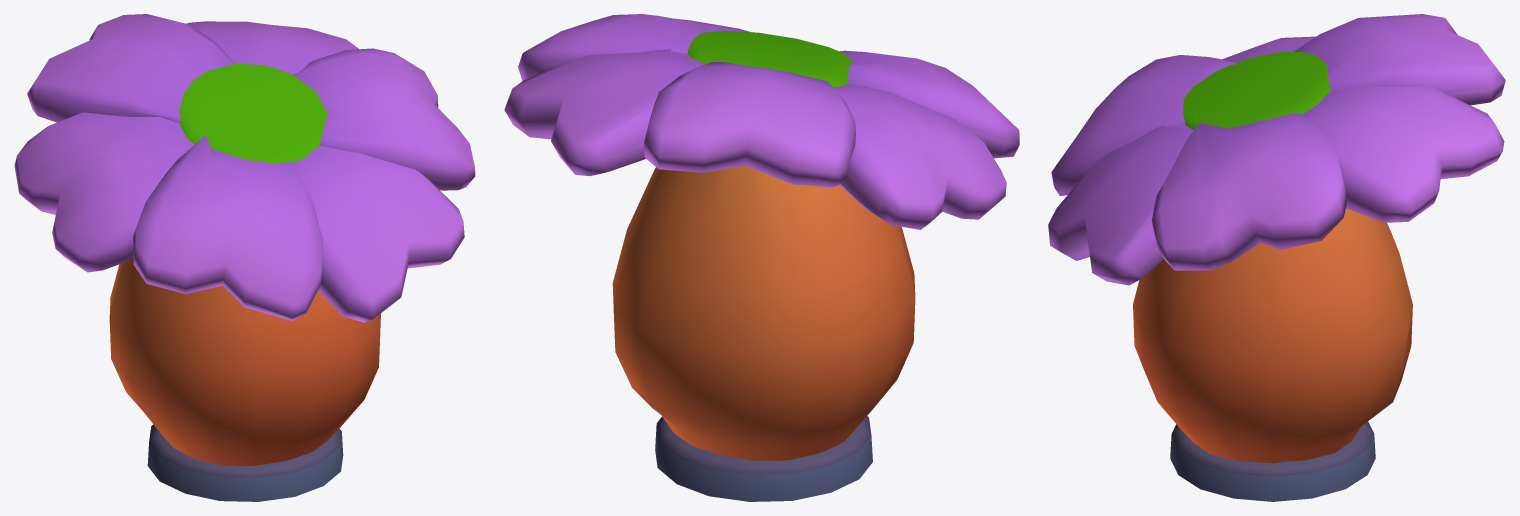
Rendered from flower.fbx.
The picture shows the model from 3 angles, left to right: view 1: azimuth 30°, elevation 25°; view 2: azimuth 150°, elevation 25°; view 3: azimuth 270°, elevation 25°; orthographic projection. The views are drawn at different scales.
Parts seen in each view (by area): view 1: flower; view 2: flower; view 3: flower.
Boxes of the visible parts, x1,y1,x2,y2 form: flower: (14,14,475,501); flower: (504,14,1019,501); flower: (1048,14,1505,501).
Bounding box in the file's own units: 64.81 × 60.84 × 62.34.
